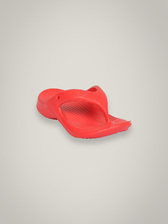shoes: (32, 79, 134, 138)
